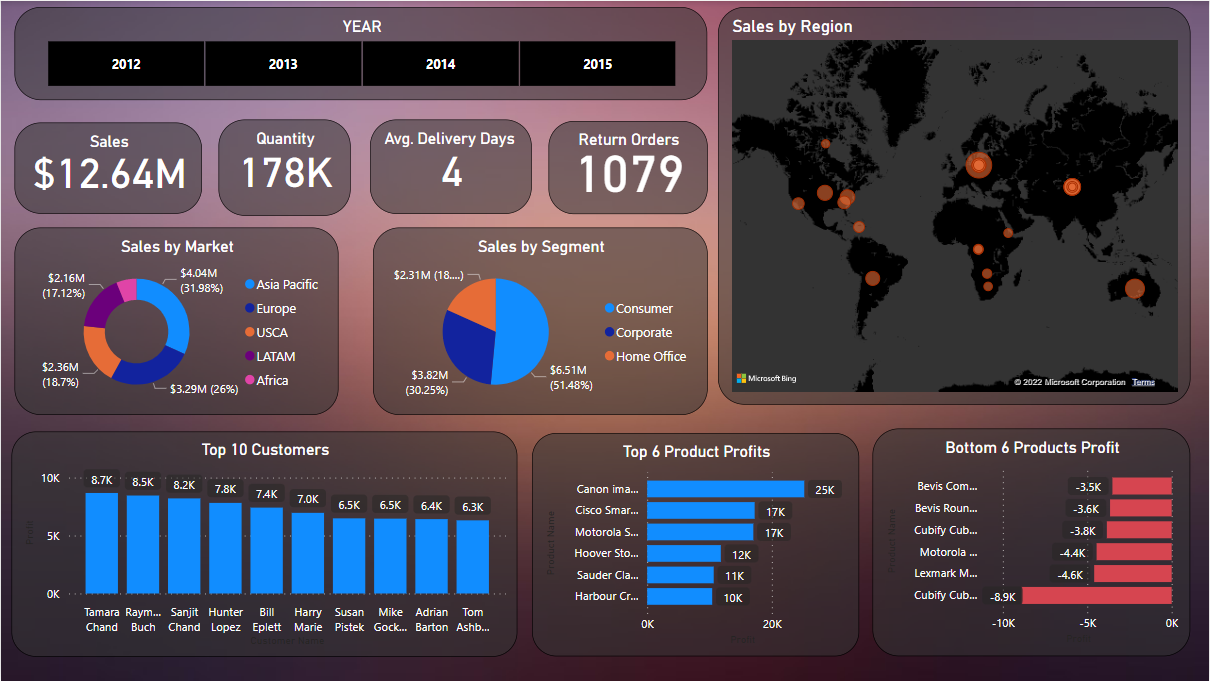

This screenshot's page, from the dashboard's own definition file:
{"tool":"powerbi","page":{"name":"Page 1","canvas":[1280,720],"ordinal":0},"visuals":[{"type":"card","title":"Sales ","fields":{"Values":["Orders.Sales"]},"box":[14.3,128.7,198.7,97],"z":0},{"type":"card","title":"Quantity","fields":{"Values":["Orders.Quantity"]},"box":[230.5,125.6,139.9,101.7],"z":1000},{"type":"card","title":"Avg. Delivery Days","fields":{"Values":["Orders.Delivery Days "]},"box":[391,125.6,171.7,100.1],"z":2000},{"type":"slicer","title":"YEAR","fields":{"Values":["Orders.Year "]},"box":[14.3,6.4,734.3,98.5],"z":3000},{"type":"card","title":"Return Orders ","fields":{"Values":["Returns.Return Orders"]},"box":[580.1,127.2,168.5,98.5],"z":4000},{"type":"map","fields":{"Category":["Orders.Region"],"Size":["Orders.Sales"]},"box":[759.7,6.4,500.7,421.2],"z":5000},{"type":"clusteredBarChart","title":"Top 6 Product Profits","fields":{"Y":["Orders.Profit"],"Category":["Orders.Product Name"]},"box":[562.4,458.2,346.5,236.7],"z":6000},{"type":"clusteredBarChart","title":"Bottom 6 Products Profit","fields":{"Y":["Orders.Profit"],"Category":["Orders.Product Name"]},"box":[923.4,453,337,241.6],"z":7000},{"type":"pieChart","fields":{"Category":["Orders.Segment"],"Y":["Orders.Sales"]},"box":[394.2,240,354.4,198.7],"z":8000},{"type":"donutChart","fields":{"Category":["Orders.Market"],"Y":["Orders.Sales"]},"box":[14.3,240,343.3,198.7],"z":9000},{"type":"clusteredColumnChart","title":"Top 10 Customers","fields":{"Y":["Orders.Profit"],"Category":["Orders.Customer Name"]},"box":[11.4,456.3,535.9,238.6],"z":10000}]}

Visuals, with their boxes in screenshot pixels (x1, y1, x2, y2), scaled from the page's 1280x720 canvas onto the 1210x681 screenshot:
"Sales " card: 14,122,201,213
"Quantity" card: 218,119,350,215
"Avg. Delivery Days" card: 370,119,532,213
"YEAR" slicer: 14,6,708,99
"Return Orders " card: 548,120,708,213
map - Orders.Region x Orders.Sales: 718,6,1191,404
"Top 6 Product Profits" clusteredBarChart: 532,433,859,657
"Bottom 6 Products Profit" clusteredBarChart: 873,428,1191,657
pieChart - Orders.Segment x Orders.Sales: 373,227,708,415
donutChart - Orders.Market x Orders.Sales: 14,227,338,415
"Top 10 Customers" clusteredColumnChart: 11,432,517,657
